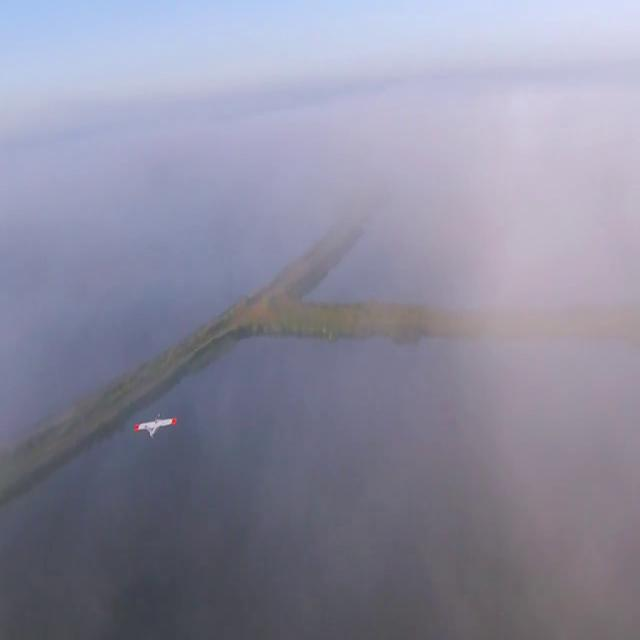iha: (132, 413, 180, 443)
